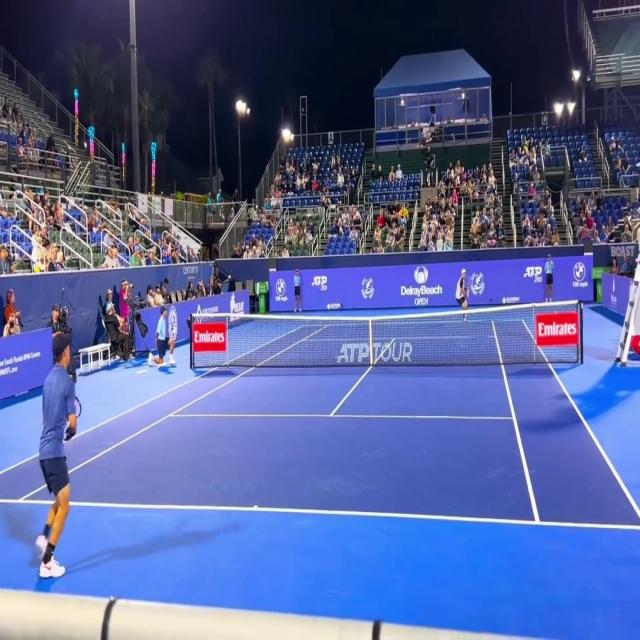tennisBall: (474, 276, 479, 286)
